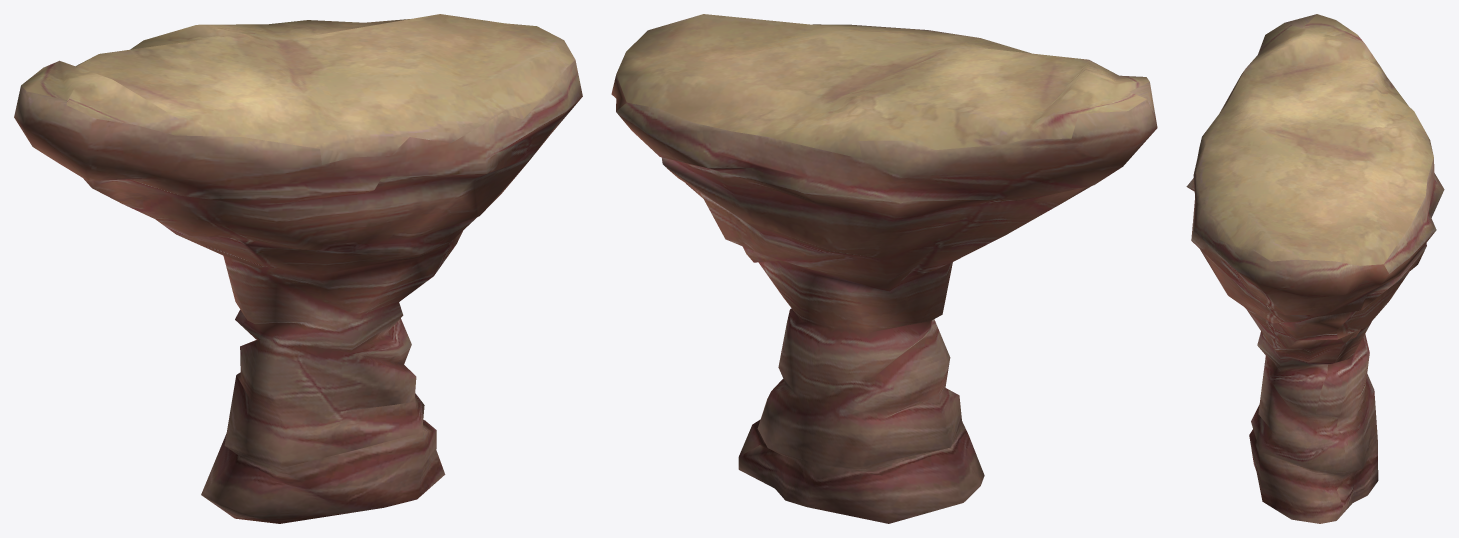
File: PF_Desertnew_Rock04.fbx
The picture shows the model from 3 angles, left to right: view 1: azimuth 30°, elevation 25°; view 2: azimuth 150°, elevation 25°; view 3: azimuth 270°, elevation 25°; orthographic projection. The views are drawn at different scales.
Parts seen in each view (by area): view 1: PF_Desertnew_Rock04; view 2: PF_Desertnew_Rock04; view 3: PF_Desertnew_Rock04.
Part boxes in pixels (box(x1,y1,x2,y2)): PF_Desertnew_Rock04: box(14, 14, 582, 523); PF_Desertnew_Rock04: box(611, 14, 1157, 523); PF_Desertnew_Rock04: box(1186, 14, 1444, 523).
Bounding box in the file's own units: 107 × 89.22 × 58.29.
